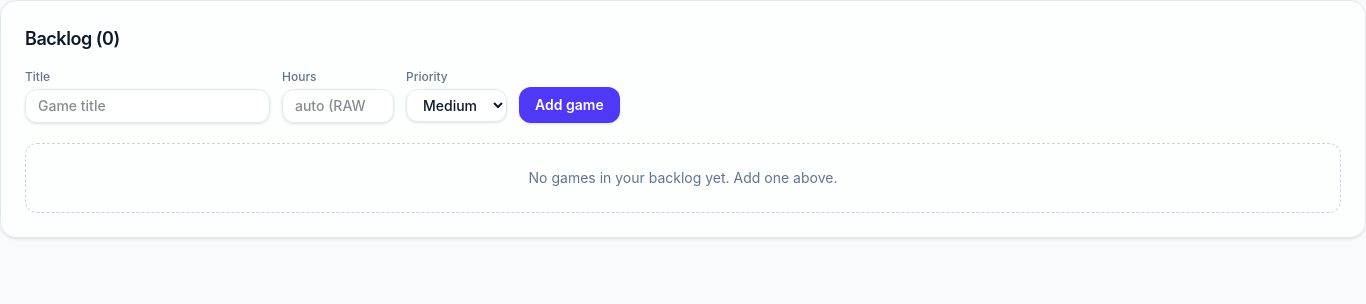
Test: BacklogManager › shows a validation error for missing title
Type "25" into the number field with placeholder "auto (RAWG)" at (338, 106), box [282,89,394,123]
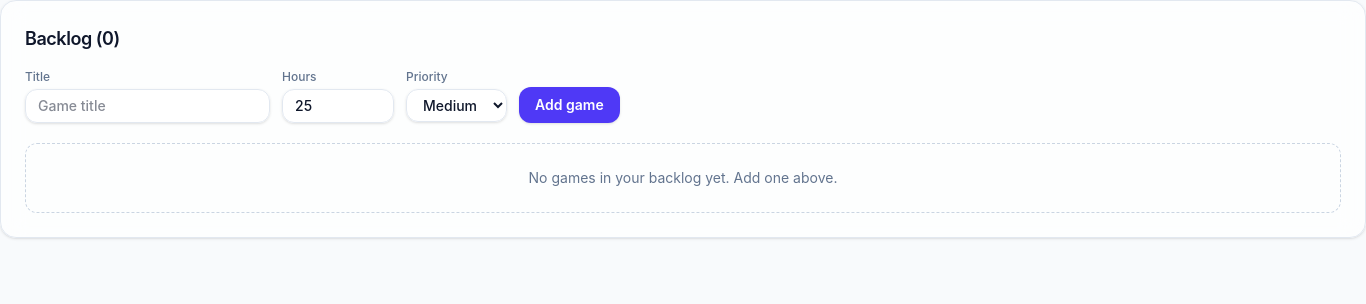
Click the button "Add game" at (569, 105), box [519,87,620,123]
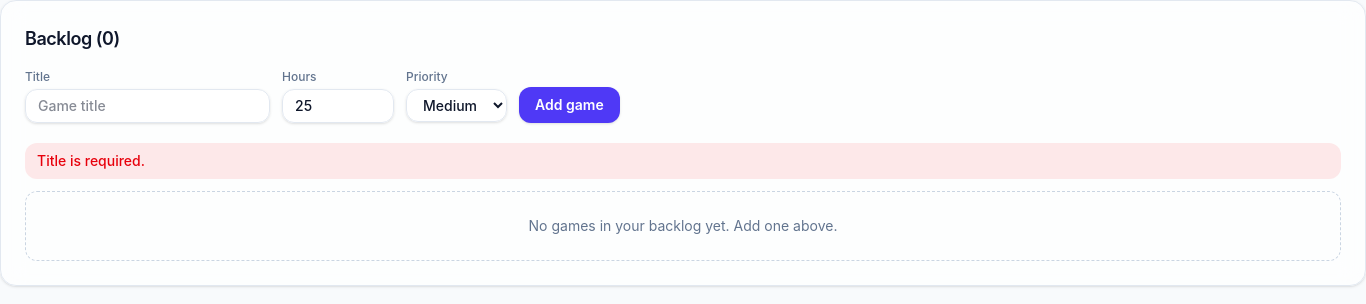
Expected: the message shows "Title is required", [37,152,145,169]
